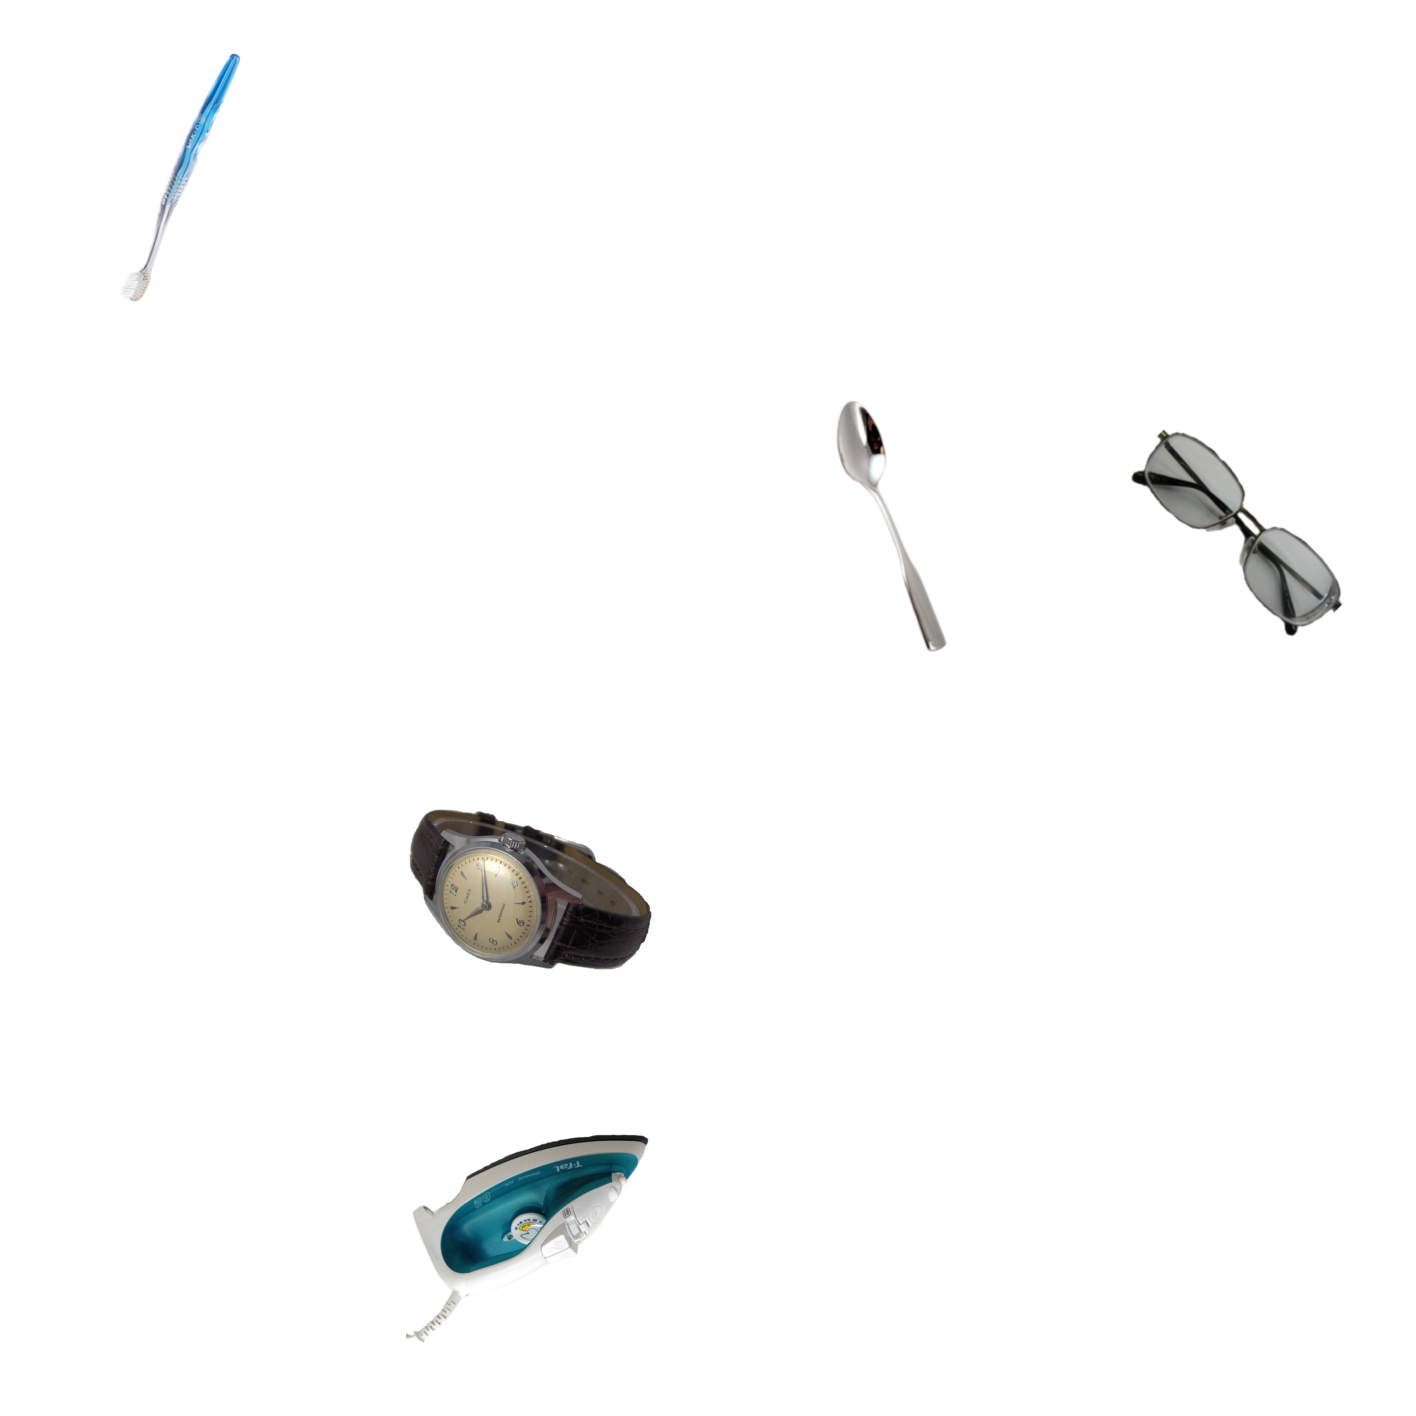Color: (1168, 756, 1308, 1032)
